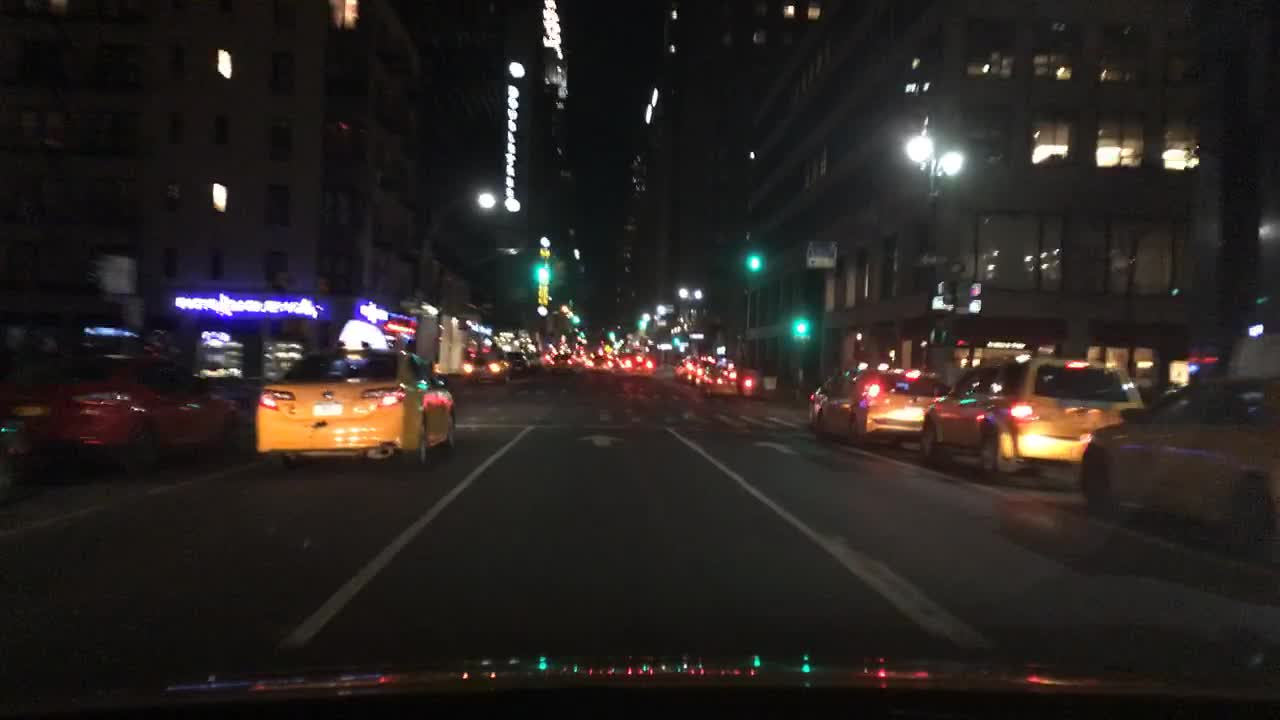car: (1076, 331, 1279, 552), (0, 339, 246, 471), (253, 317, 455, 469), (914, 353, 1144, 479), (820, 361, 945, 442), (806, 359, 867, 432), (0, 415, 42, 506), (698, 361, 756, 398), (462, 344, 509, 388), (616, 349, 654, 380), (503, 347, 530, 376), (692, 354, 719, 383), (582, 347, 612, 373), (546, 347, 575, 373), (673, 354, 693, 383), (526, 349, 545, 368)
traffic light: (791, 314, 811, 336), (749, 243, 761, 272), (536, 256, 546, 280), (568, 309, 580, 326), (636, 312, 644, 329), (671, 331, 680, 346)
traffic sign: (806, 239, 838, 270), (916, 250, 948, 270), (395, 293, 422, 310), (690, 331, 705, 341)
